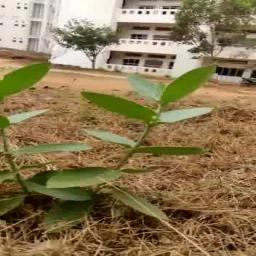CALOTROPIS: (4, 60, 220, 221)
